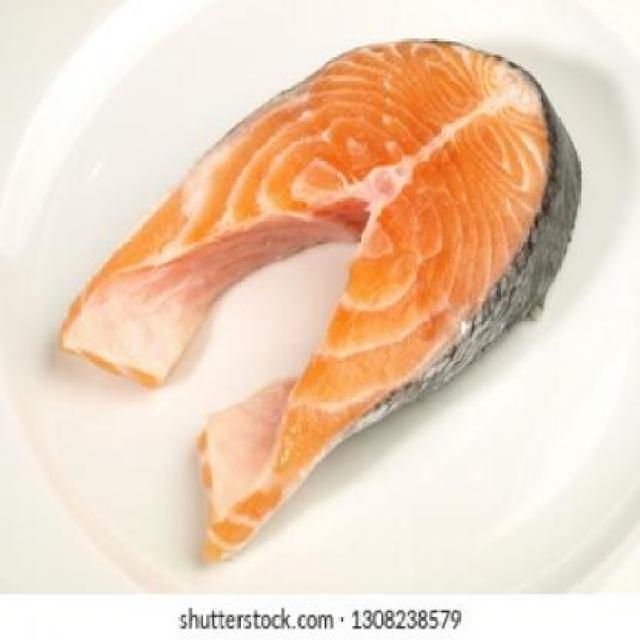salmon: (44, 28, 588, 553)
